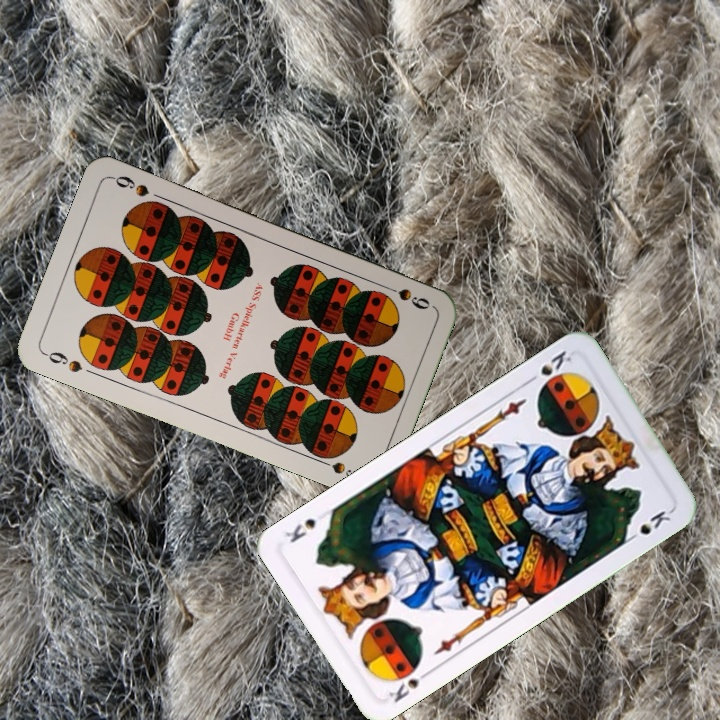S9: (377, 280, 432, 312), (40, 347, 85, 375)
SK: (522, 346, 574, 387), (384, 665, 435, 706)
